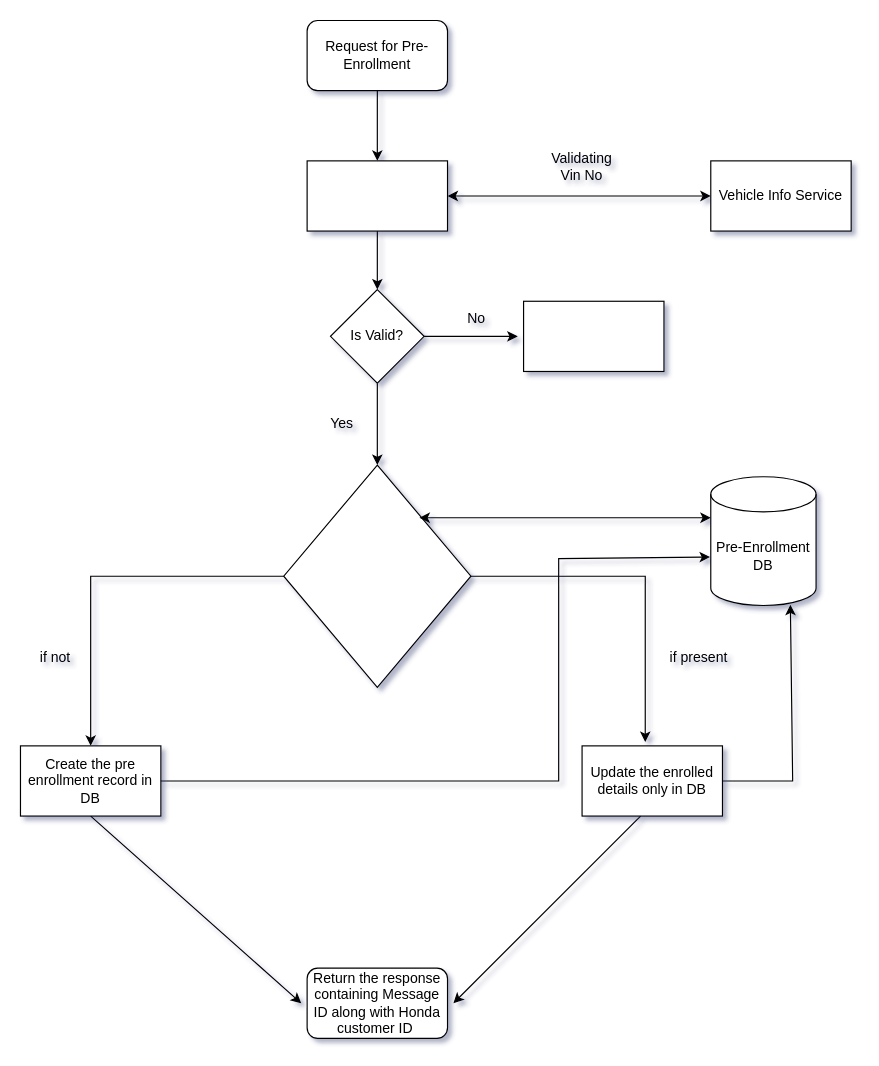
Image size: 879x1066. Some labels were removed from this diagram. Each missing label, with the centre of its shape:
Check the database for existing record with the given Vin No: [377,575]
Throws Exception: [593,335]
Validation of the request: [377,195]
